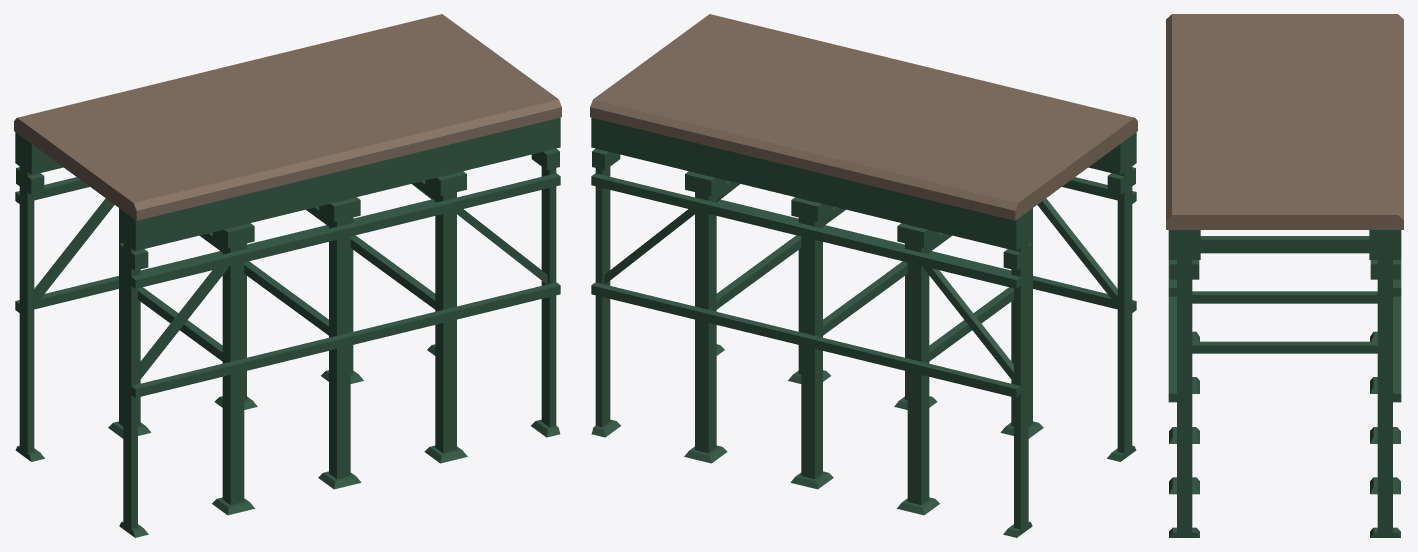
Rendered from scaffolding-section-6554c0.glb.
The picture shows the model from 3 angles, left to right: view 1: azimuth 30°, elevation 25°; view 2: azimuth 150°, elevation 25°; view 3: azimuth 270°, elevation 25°; orthographic projection. The views are drawn at different scales.
Parts seen in each view (by area): view 1: scaffolding-section; view 2: scaffolding-section; view 3: scaffolding-section.
Boxes of the visible parts, left/top/right/bottom form: scaffolding-section: left=14, top=14, right=561, bottom=537; scaffolding-section: left=590, top=14, right=1137, bottom=537; scaffolding-section: left=1166, top=14, right=1403, bottom=537.
Size of the model in its own units: 4 by 3 by 2.
